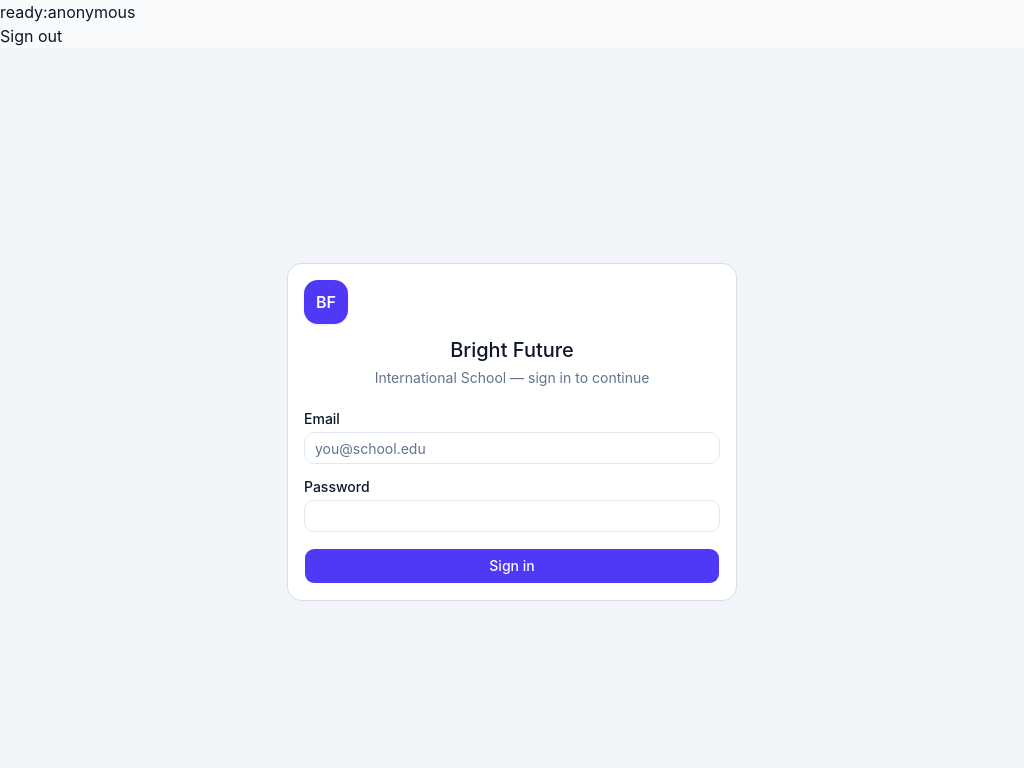
Test: auth bootstrap › makes /login interactive when /auth/me and /auth/refresh both return 401
Check: the button "Sign in" is enabled, box [304, 548, 720, 584]
In the field labelled "Email": (512, 448) [304, 432, 720, 464], type "ada@school.test"
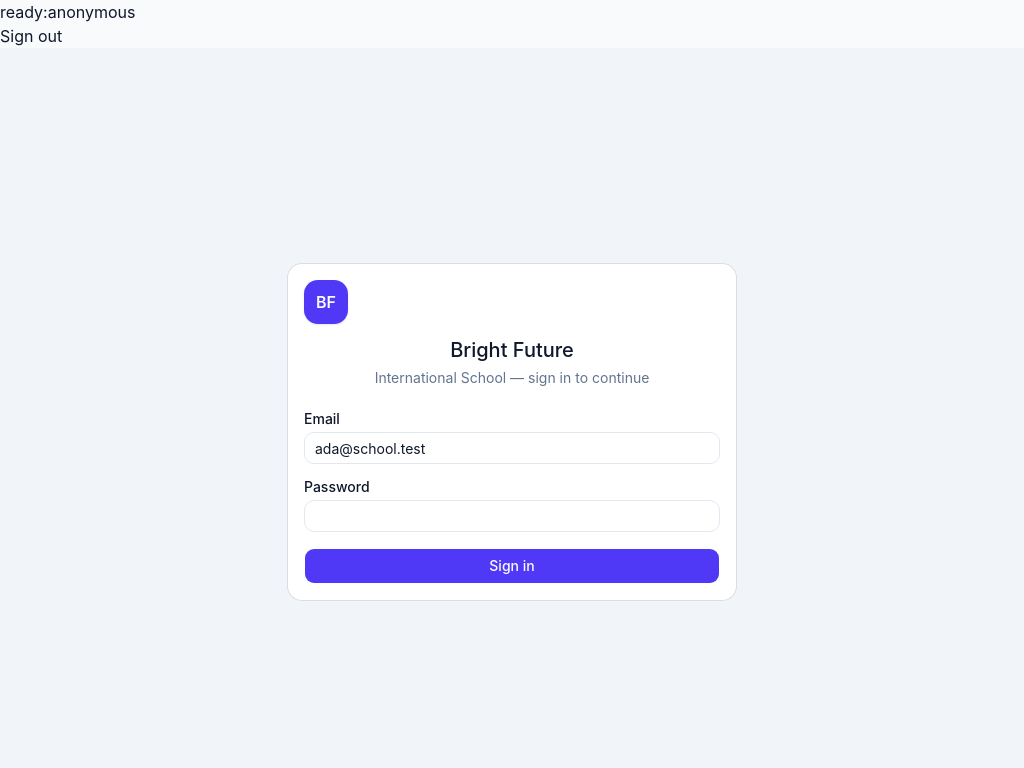
In the password field labelled "Password": (512, 516) [304, 500, 720, 532], type "password-1234"
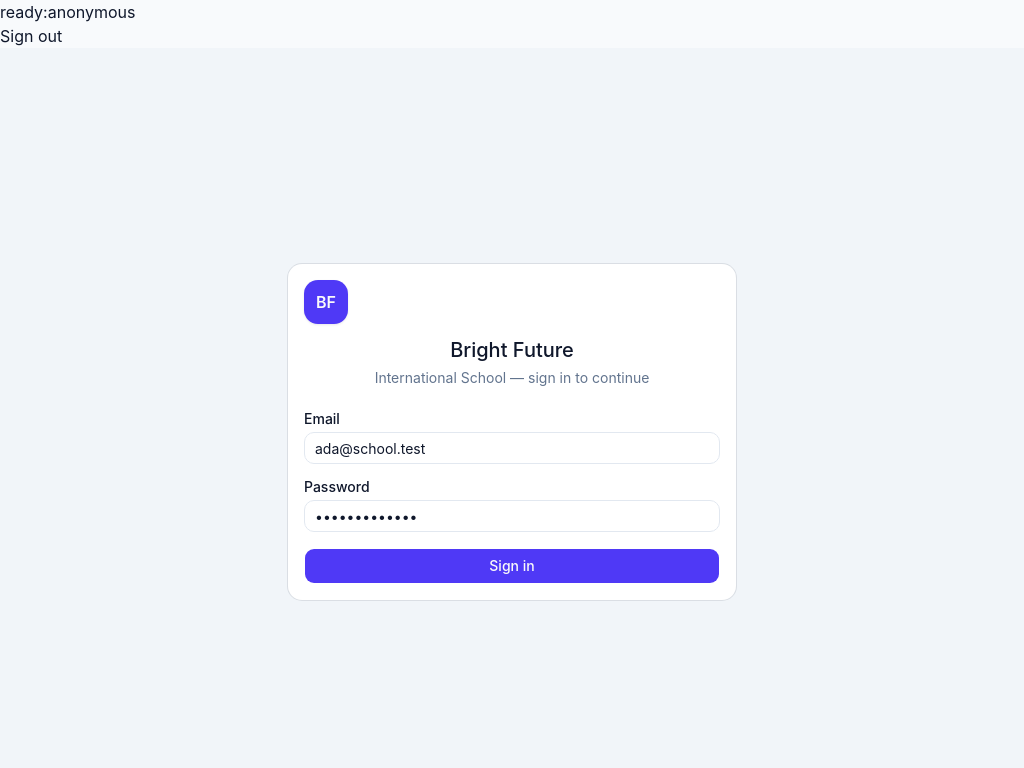
Click the button "Sign in": (512, 566) [304, 548, 720, 584]
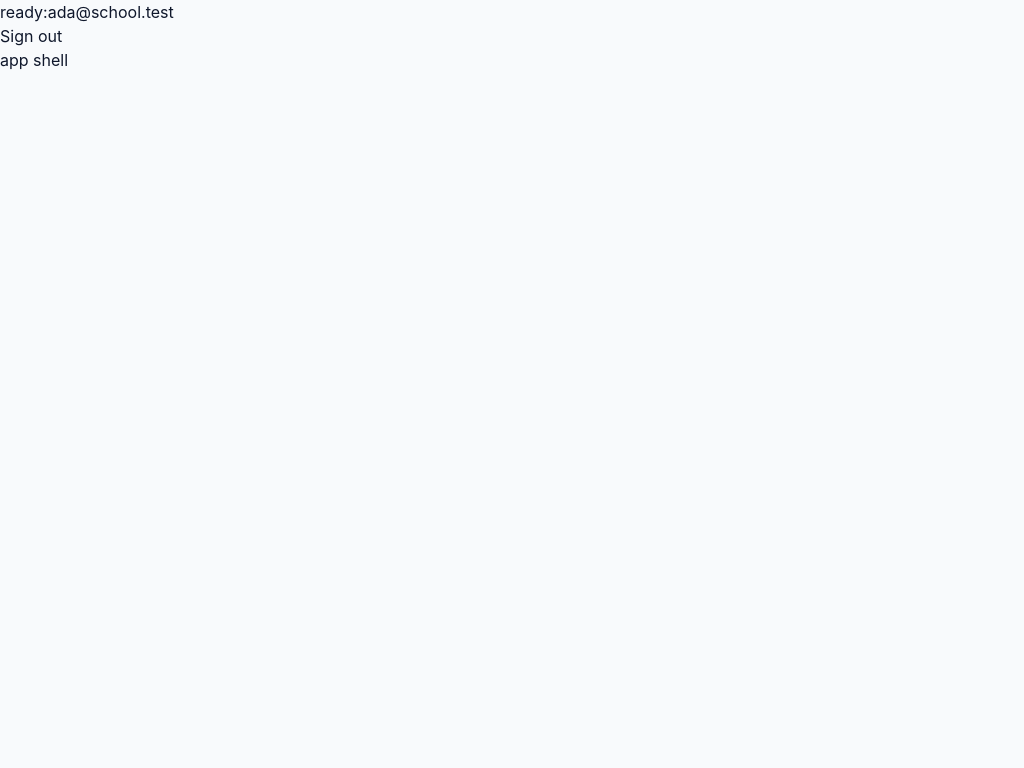
Check: the text "app shell" is shown, box [0, 50, 68, 70]
Check: the text with test id "auth-state" reads "ready:ada@school.test", box [0, 2, 174, 22]
